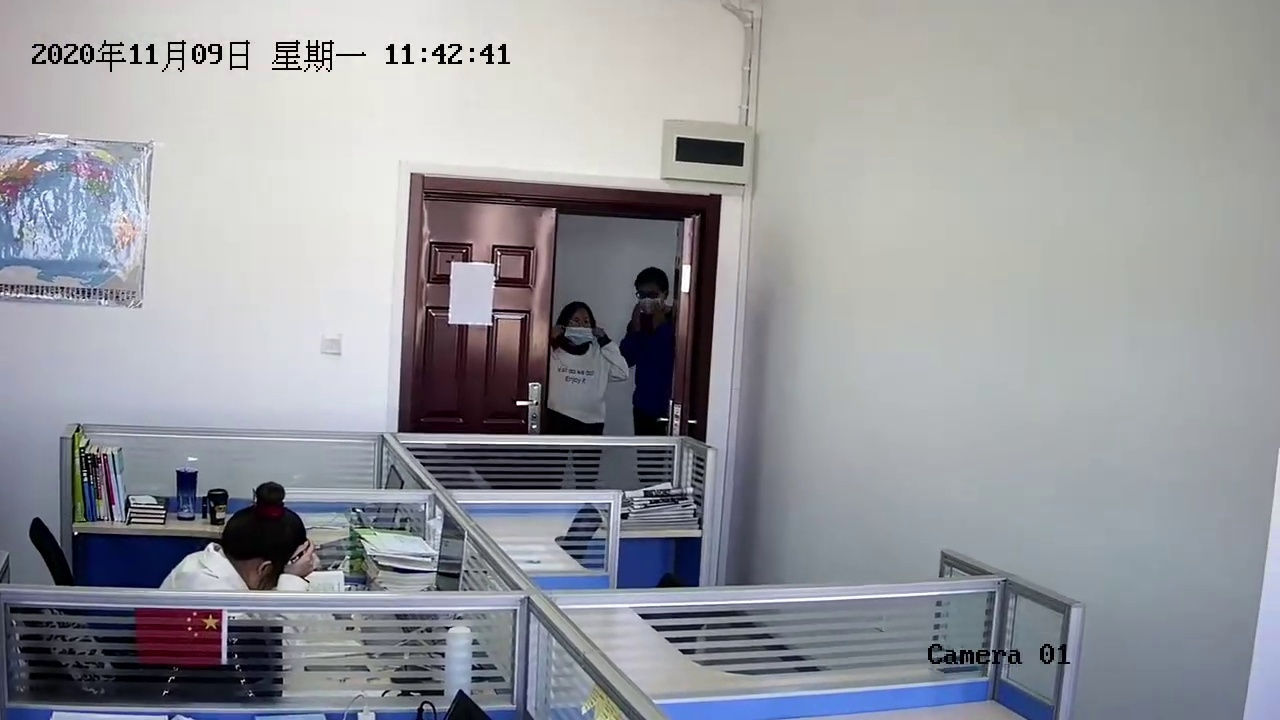mask: (559, 302, 601, 351), (629, 270, 668, 319)
